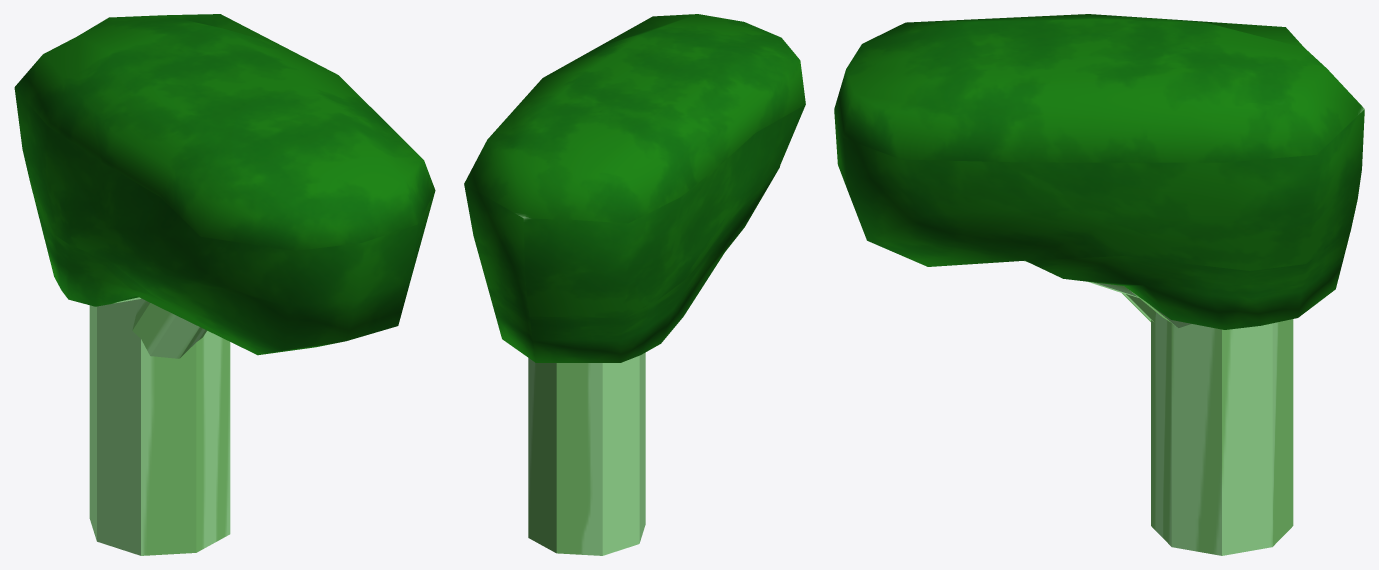
File: Broccoli.fbx
3 views of the same model, side by side, from view 1: azimuth 30°, elevation 25°; view 2: azimuth 150°, elevation 25°; view 3: azimuth 270°, elevation 25° (orthographic). The views are drawn at different scales.
Visible parts, largest first — view 1: Brokory; view 2: Brokory; view 3: Brokory.
Part boxes in pixels (x1,y1,x2,y2): Brokory: (14,14,435,555); Brokory: (464,14,805,555); Brokory: (834,14,1364,555).
Size of the model in its own units: 72.72 by 148 by 148.
Materials: 1 (1 with a texture image).
